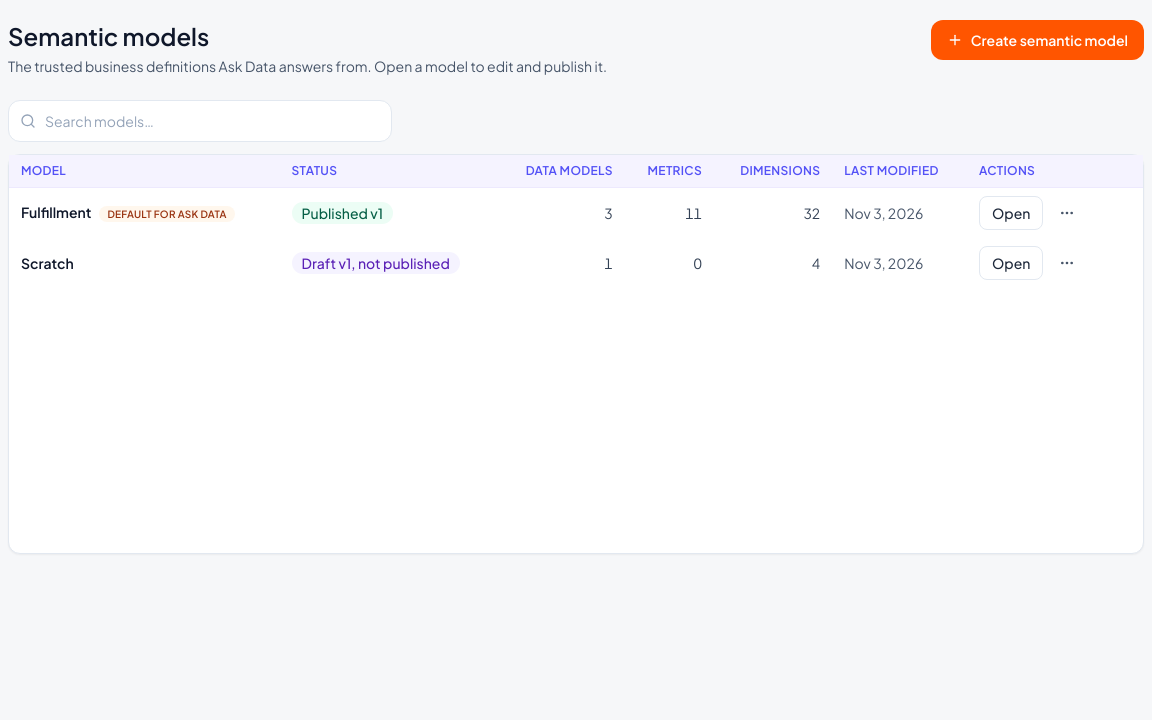
Scenario: SemanticModelsListPage › makes the user type the key before a published model goes away
Click the button named "More actions for Fulfillment".
click(1067, 213)  # box top-left (1051, 197), bottom-right (1083, 229)
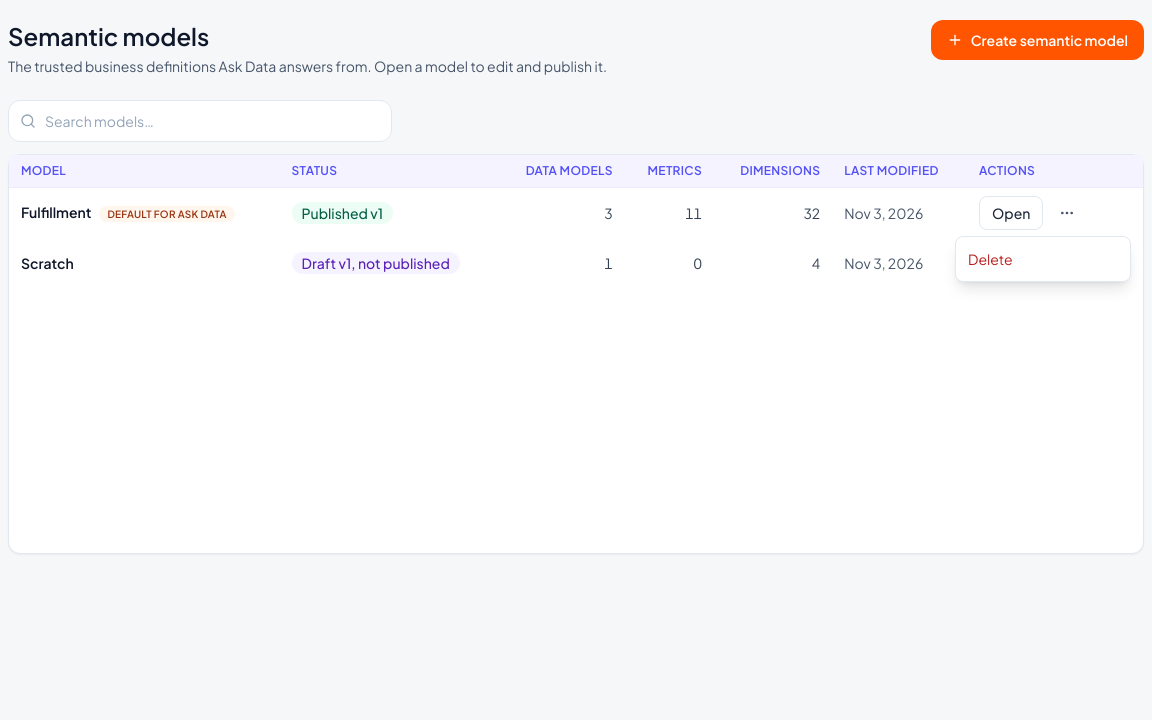
Click the menu item "Delete".
click(1043, 259)  # box top-left (956, 241), bottom-right (1130, 277)
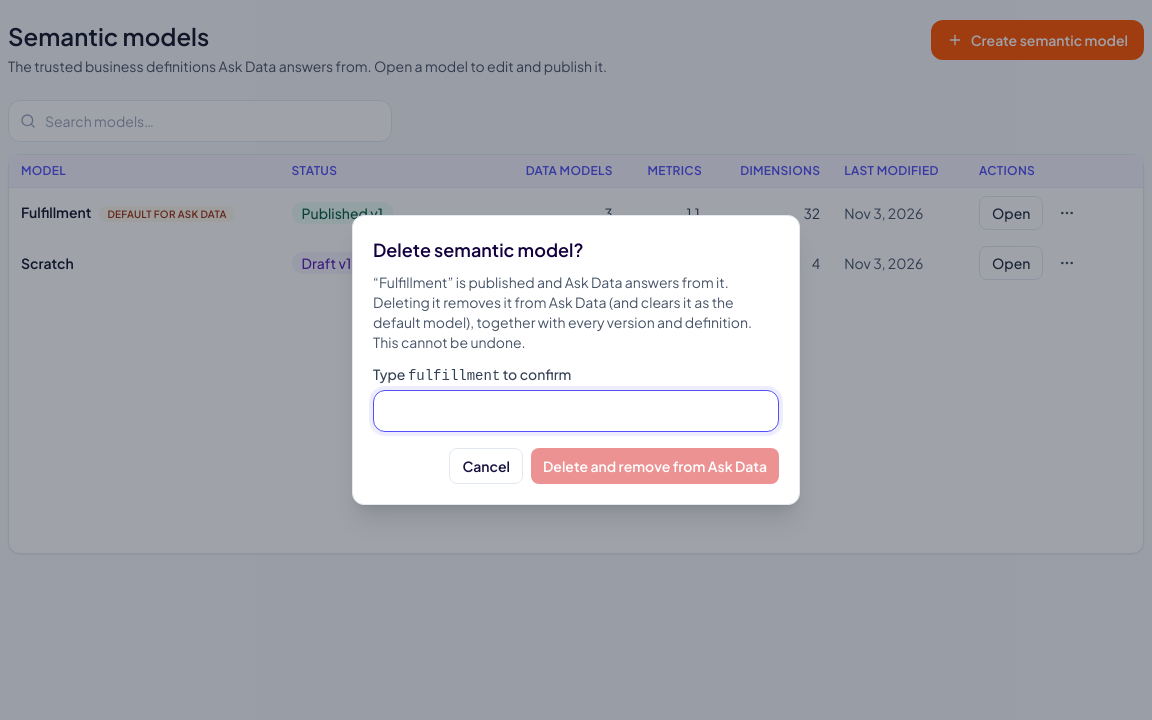
Check: the button "Delete and remove from Ask Data" is disabled, box top-left (531, 448), bottom-right (779, 484)
Type "wrong" into the field labelled "Type fulfillment to confirm".
click(576, 411); type("wrong")  # box top-left (373, 390), bottom-right (779, 432)
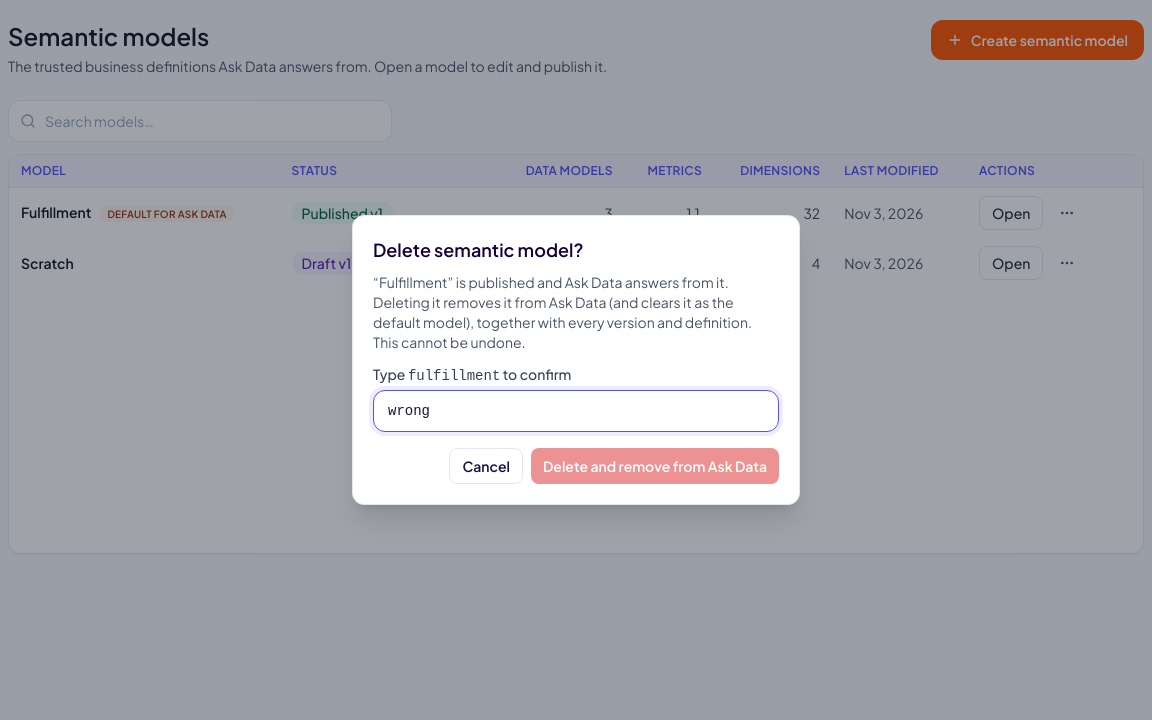
Check: the button "Delete and remove from Ask Data" is disabled, box top-left (531, 448), bottom-right (779, 484)
Replace the text in the field labelled "Type fulfillment to confirm" with "fulfillment" at (576, 411), box top-left (373, 390), bottom-right (779, 432)
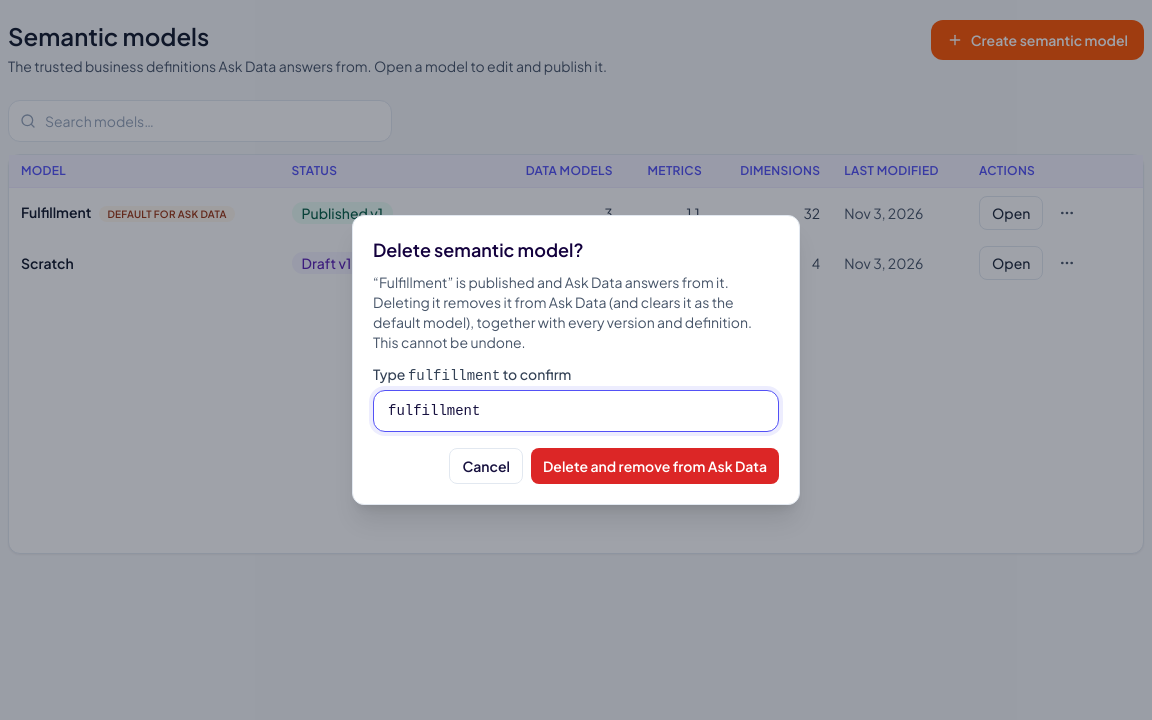
Check: the button "Delete and remove from Ask Data" is enabled
Click the button "Delete and remove from Ask Data".
click(655, 466)  # box top-left (531, 448), bottom-right (779, 484)
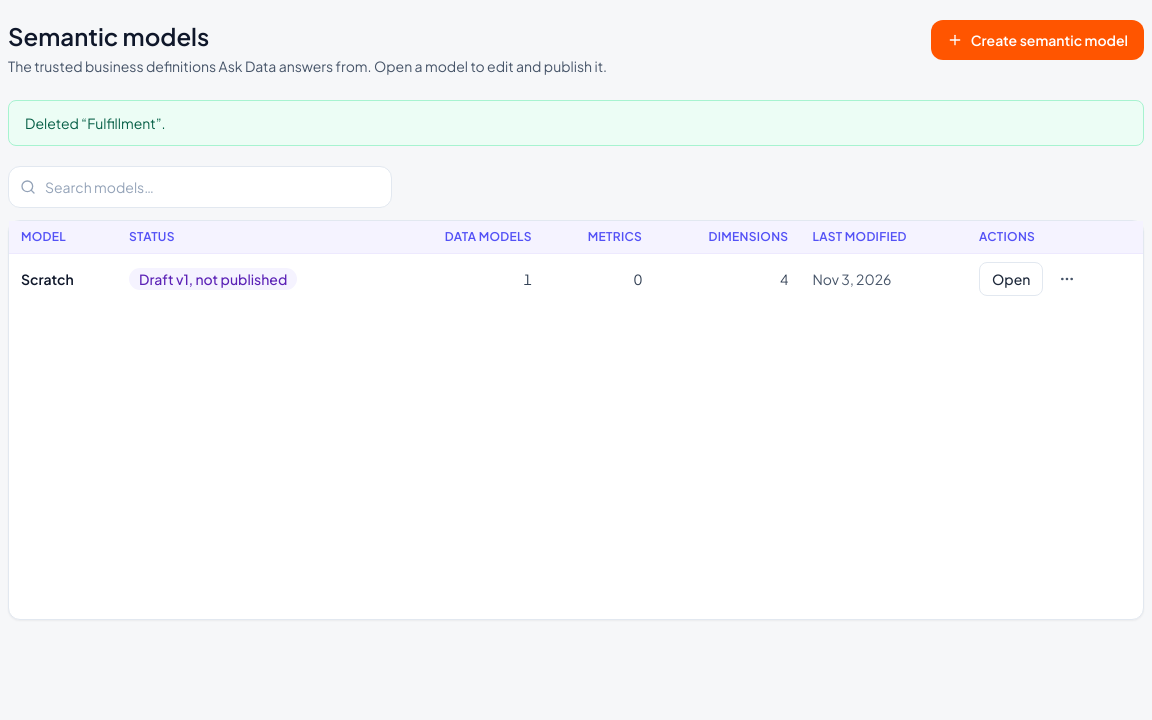
Check: the text "Default for Ask Data" is gone
